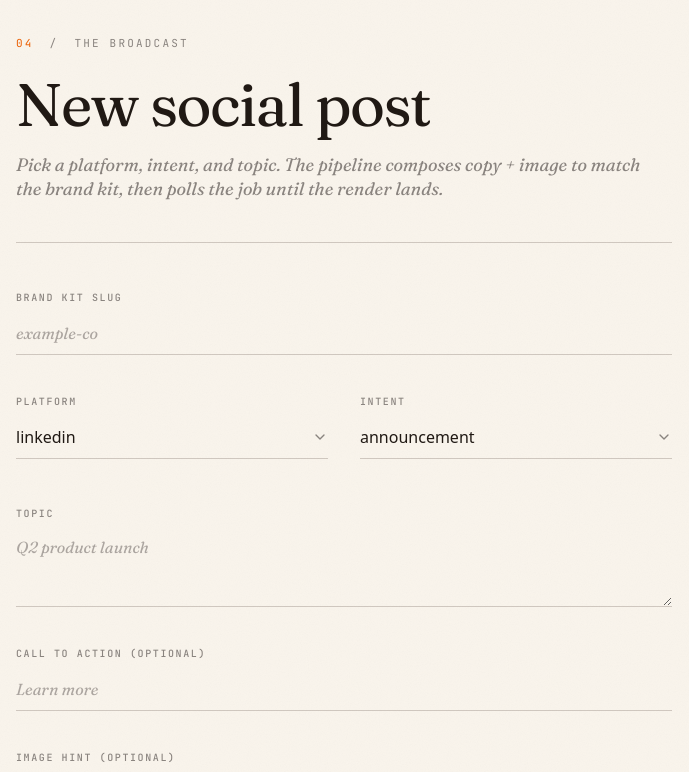
Test case: NewSocialPostPage › rejects empty brand_kit_slug
The width and height of the screenshot is (689, 772).
Type "Launch announcement" into the text box labelled "Topic" at (344, 567), box [16,527,672,607]
(page scrolled)
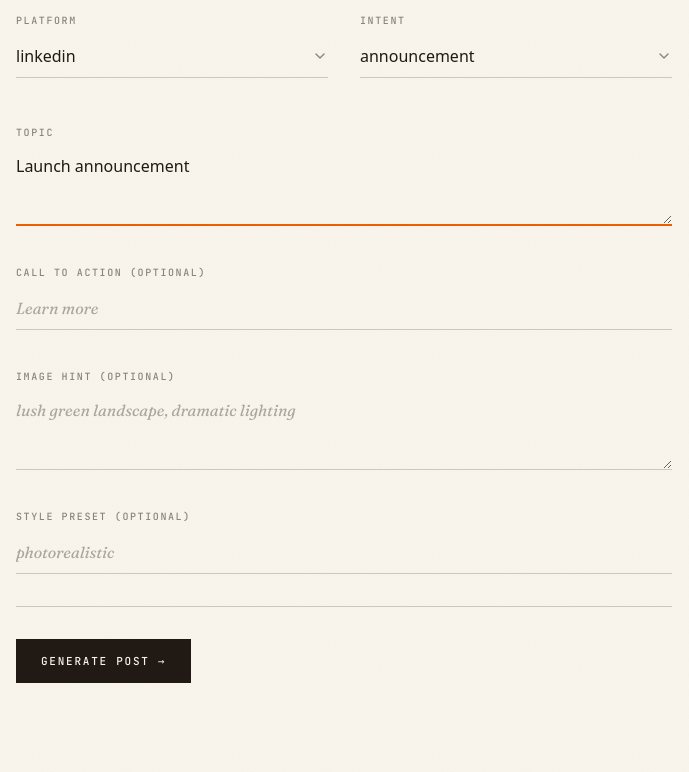
Click the button "Generate post →" at (104, 661), box [16,639,191,683]
(page scrolled)
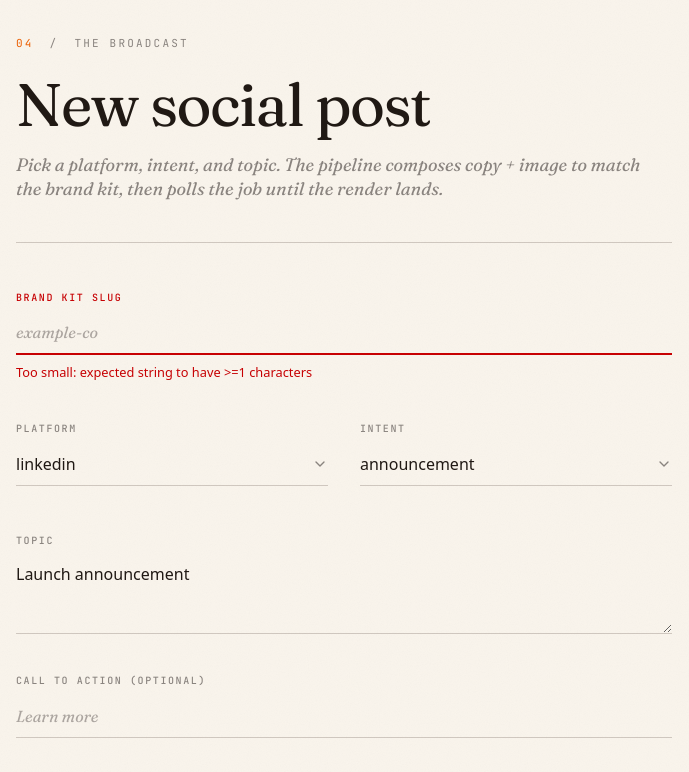
Expected: the text "Too small: expected string to have >=1 characters" is shown, [16,363,312,381]
